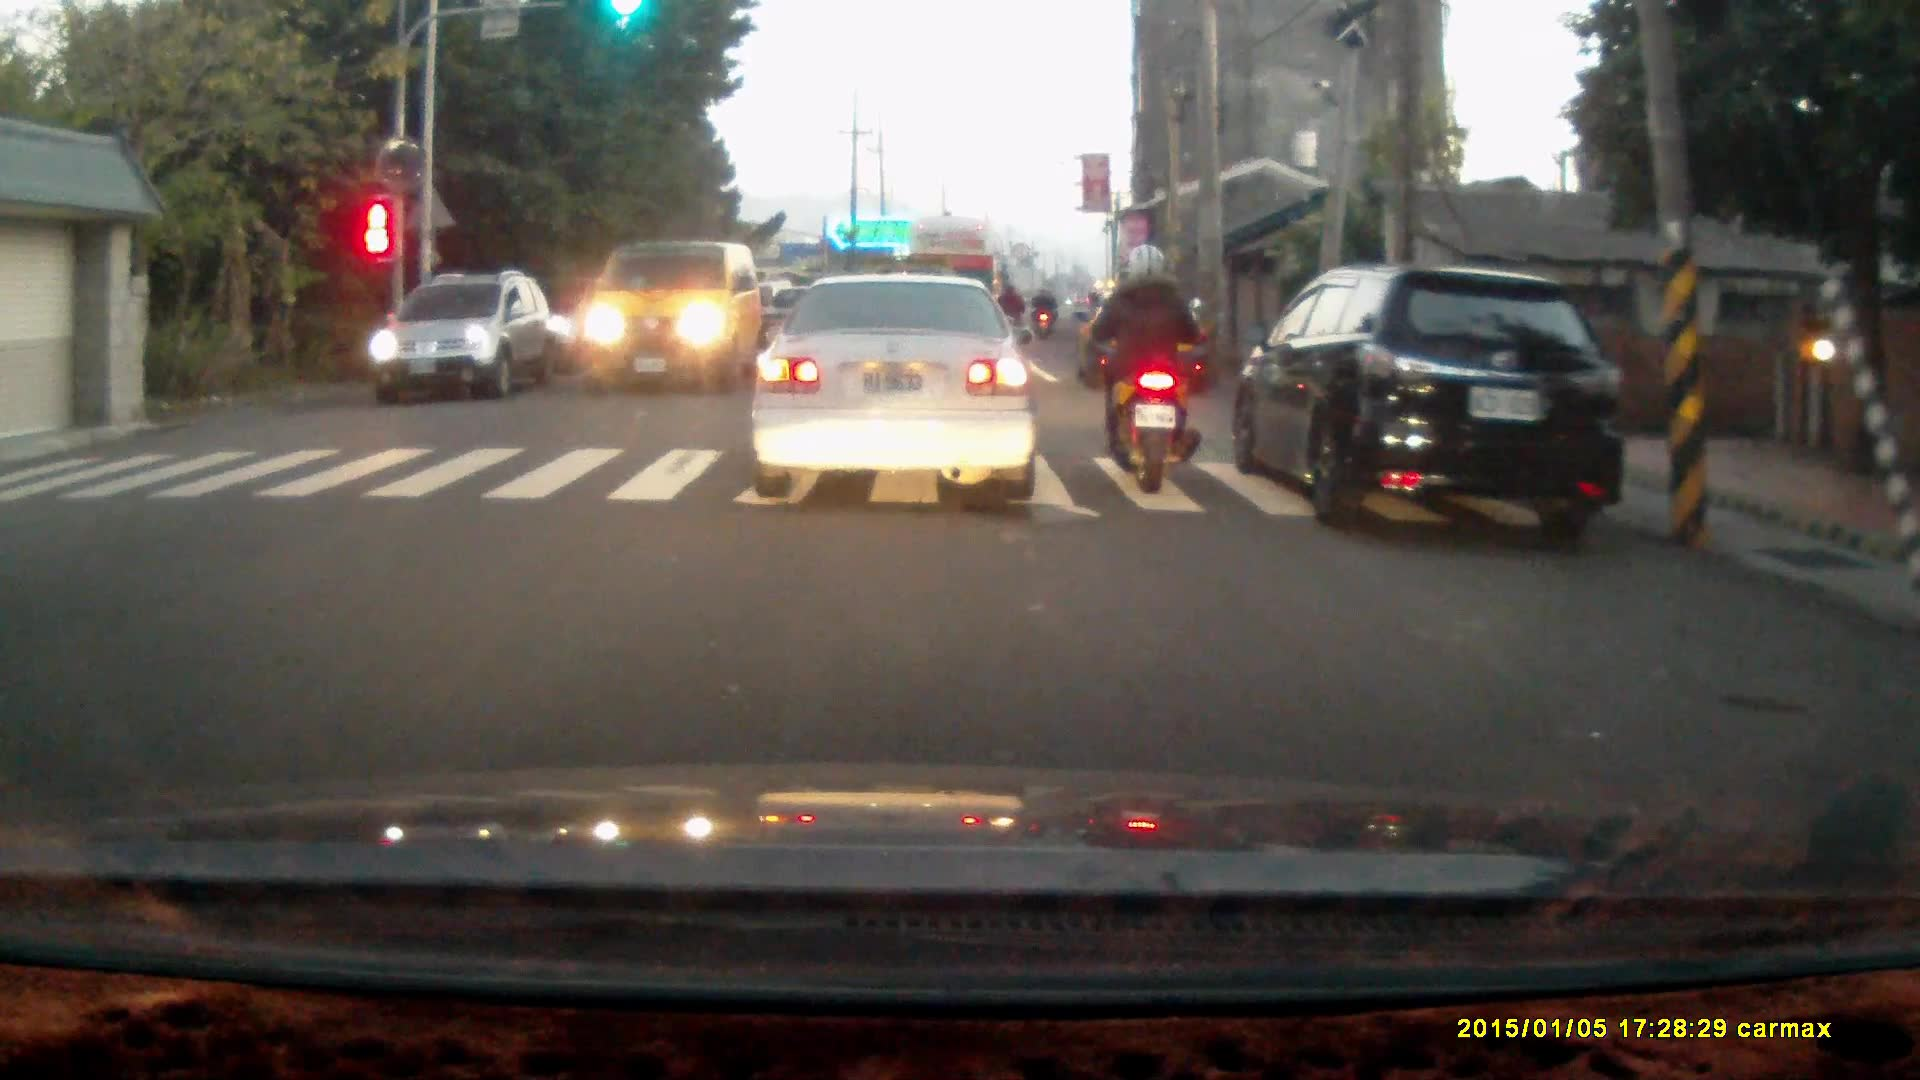rider: (1084, 239, 1199, 494)
vehicle: (1239, 262, 1629, 530), (750, 269, 1043, 507), (579, 245, 764, 402), (368, 272, 555, 402), (1080, 291, 1210, 406), (904, 222, 1013, 353)
